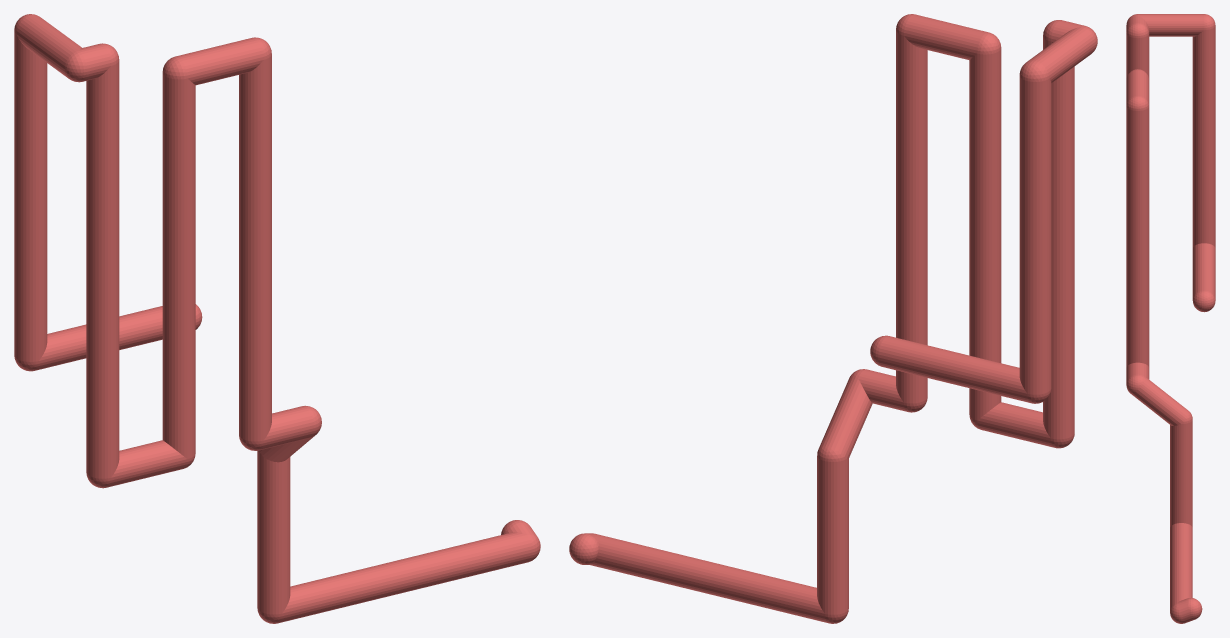
The model's file is BatteryHarnessPositiveReservation.glb.
3 views of the same model, side by side, from view 1: azimuth 30°, elevation 25°; view 2: azimuth 150°, elevation 25°; view 3: azimuth 270°, elevation 25° (orthographic). The views are drawn at different scales.
Parts seen in each view (by area): view 1: geometry_0; view 2: geometry_0; view 3: geometry_0.
Boxes of the visible parts, left/top/right/bottom form: geometry_0: left=14, top=14, right=540, bottom=623; geometry_0: left=569, top=14, right=1097, bottom=623; geometry_0: left=1126, top=14, right=1215, bottom=623.
Bounding box in the file's own units: 21.2 × 26.05 × 4.7.
